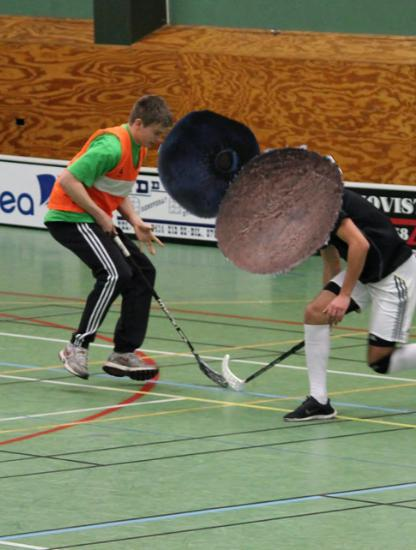Blueberry: (156, 112, 265, 221)
Cocos: (207, 136, 352, 281)
